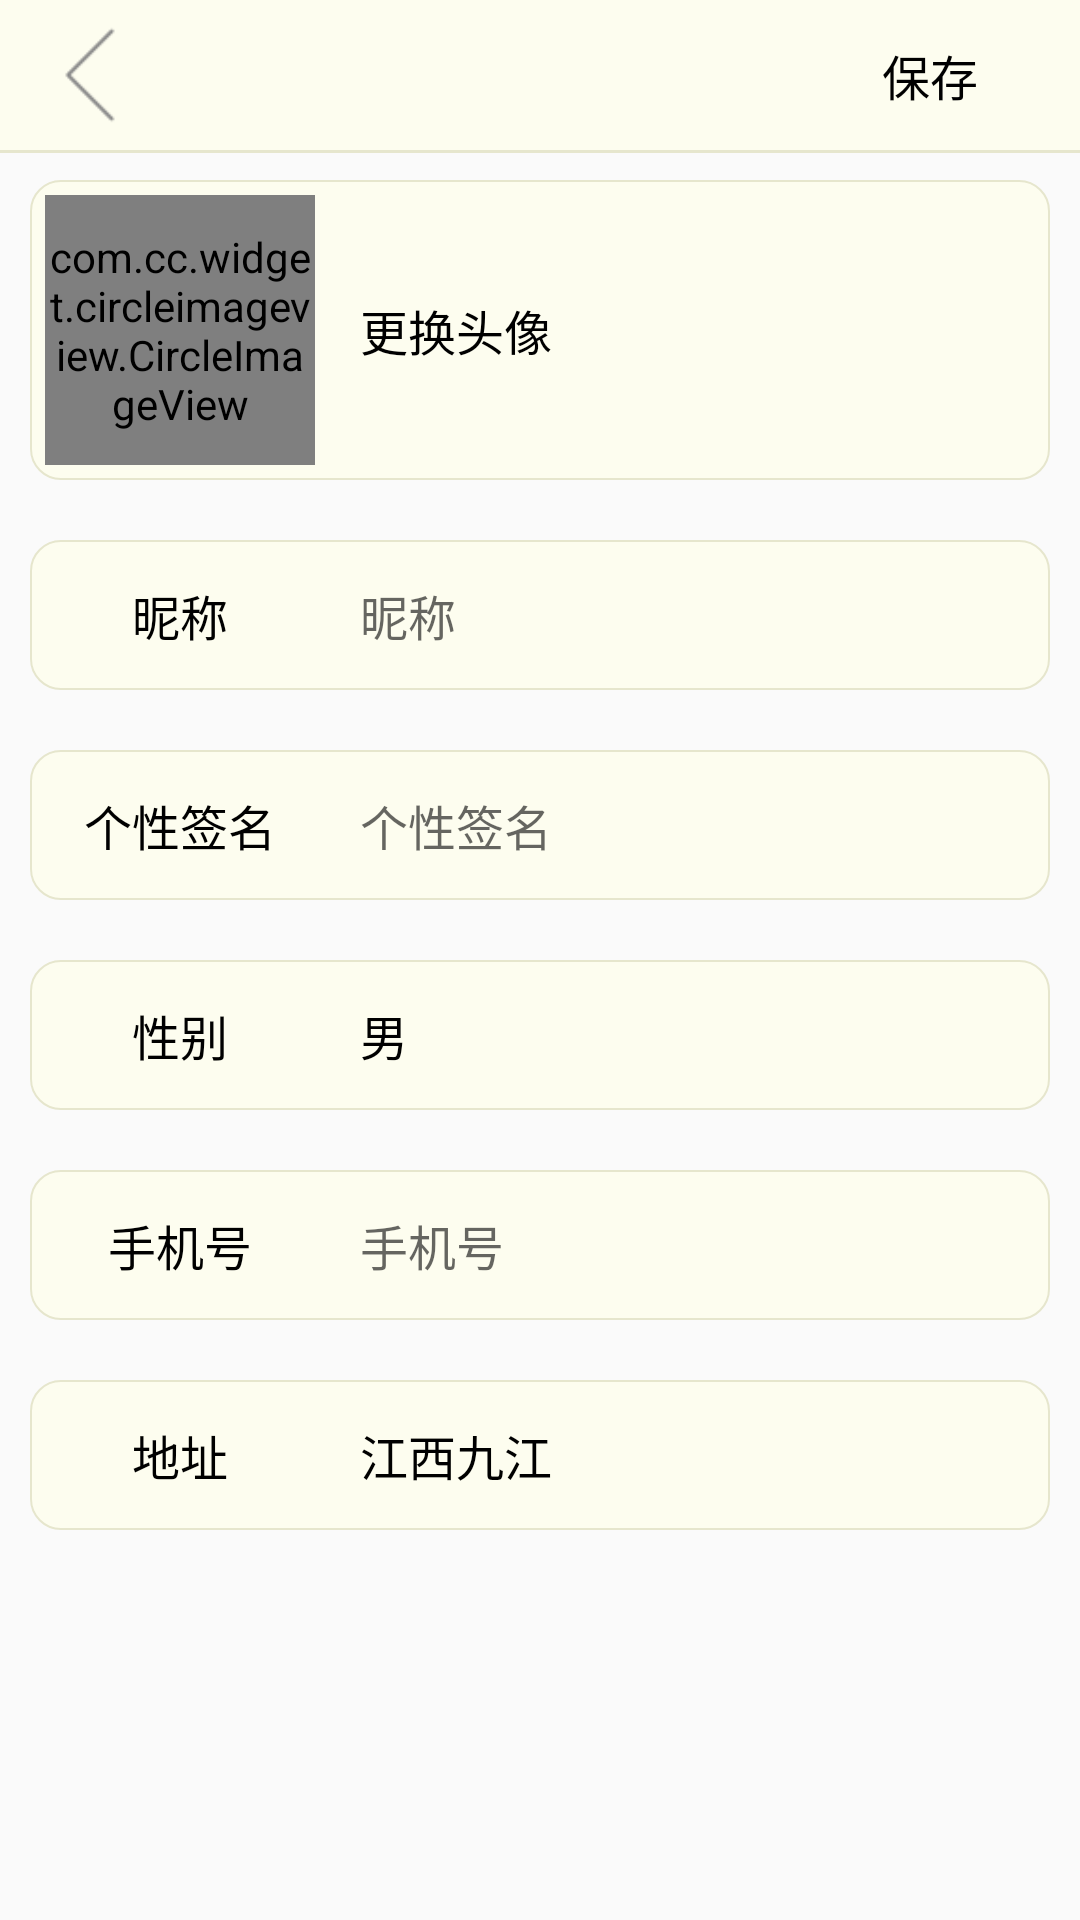

Icon click points for this 1080 × 1920 phone screenshot, format (x=x, y=y):
back: (x=89, y=75)
